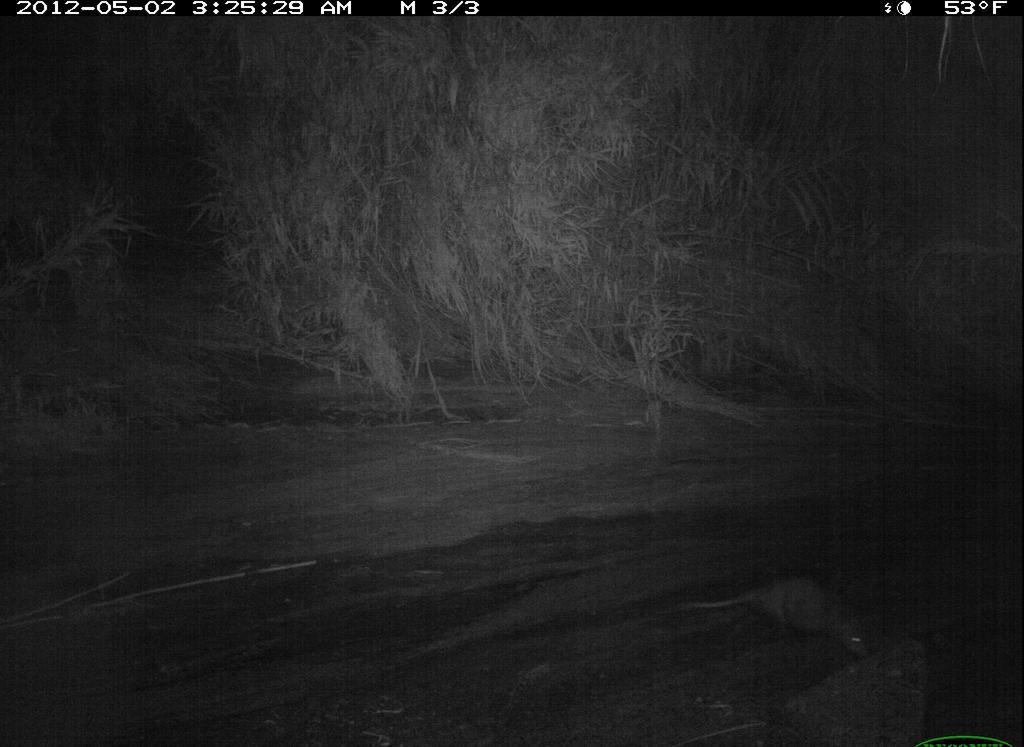opossum: (670, 575, 880, 670)
